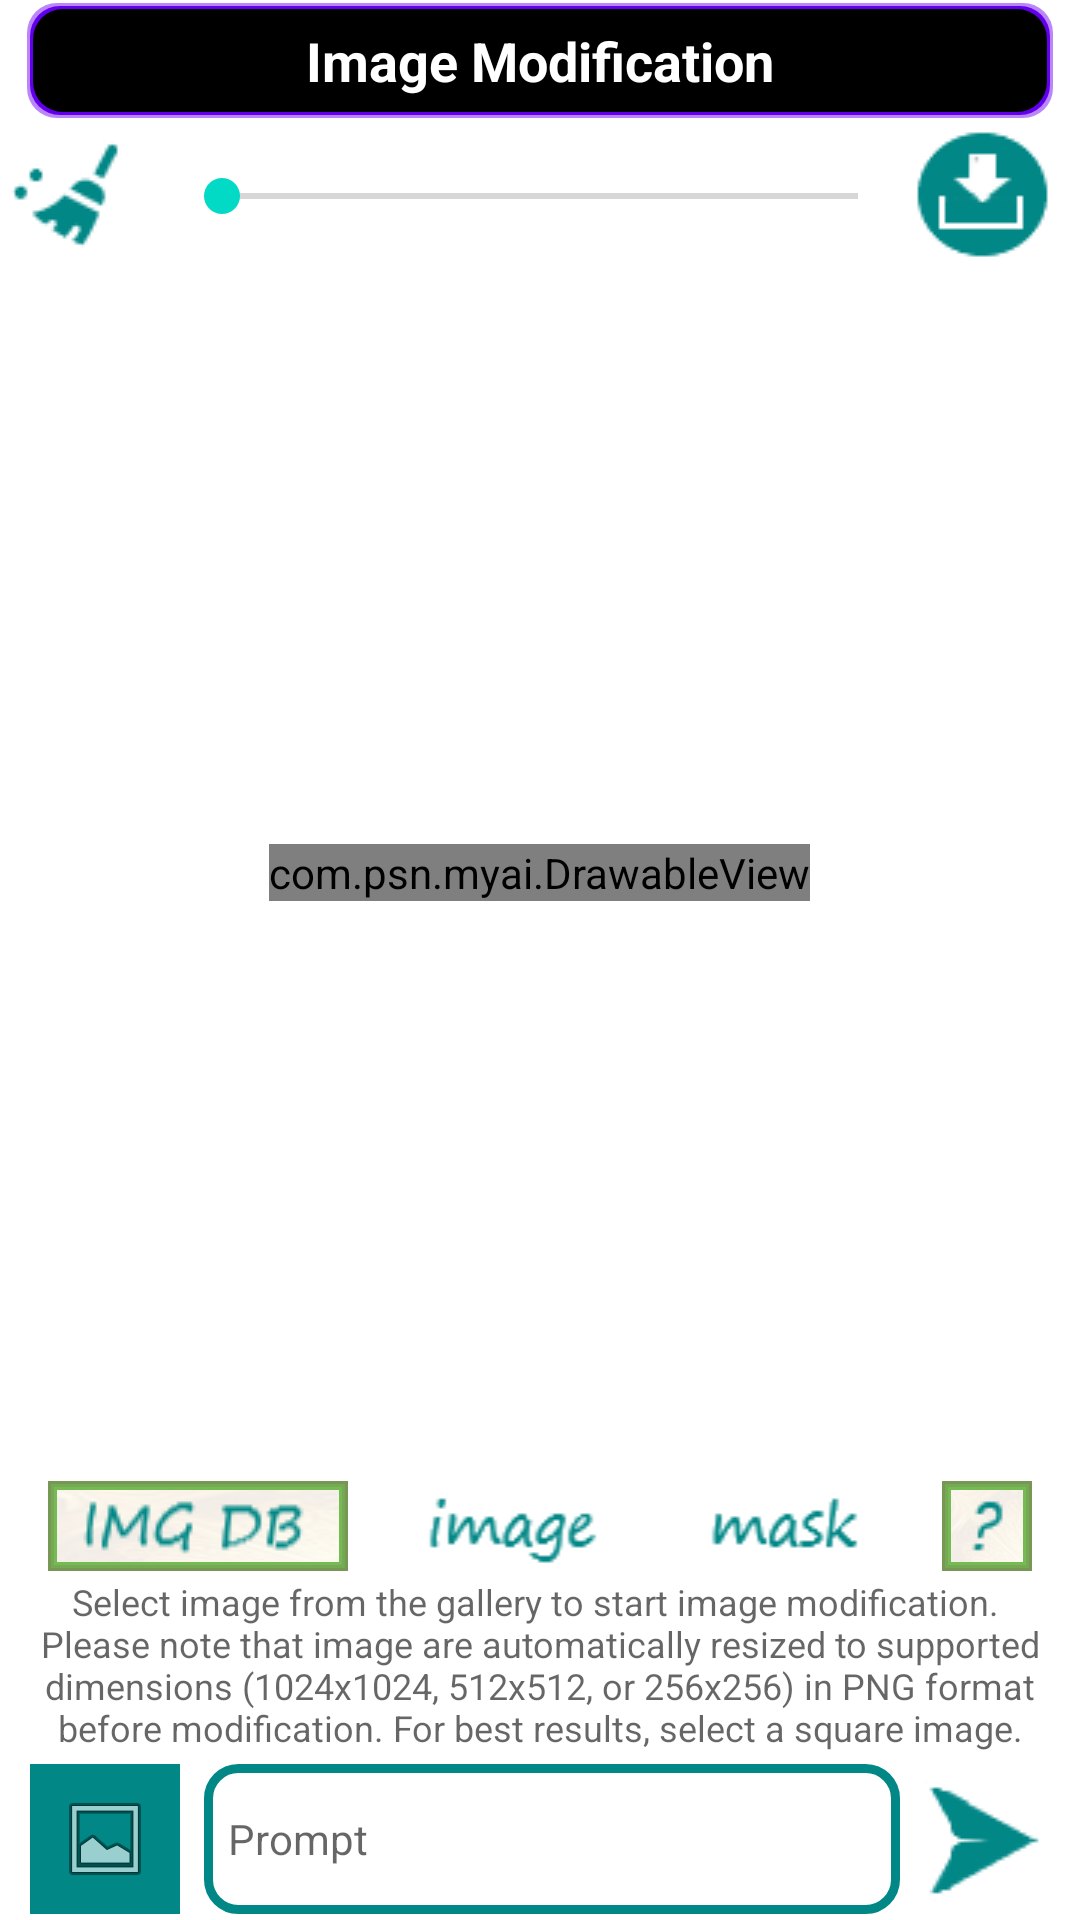

Icon bounding boxes for this 1080*1920 phone screenshot, format (x1, y1, x2, y2):
Delete: (13, 144, 118, 246)
Help: (942, 1481, 1032, 1571)
Save: (917, 132, 1048, 257)
Submit: (929, 1787, 1039, 1894)
